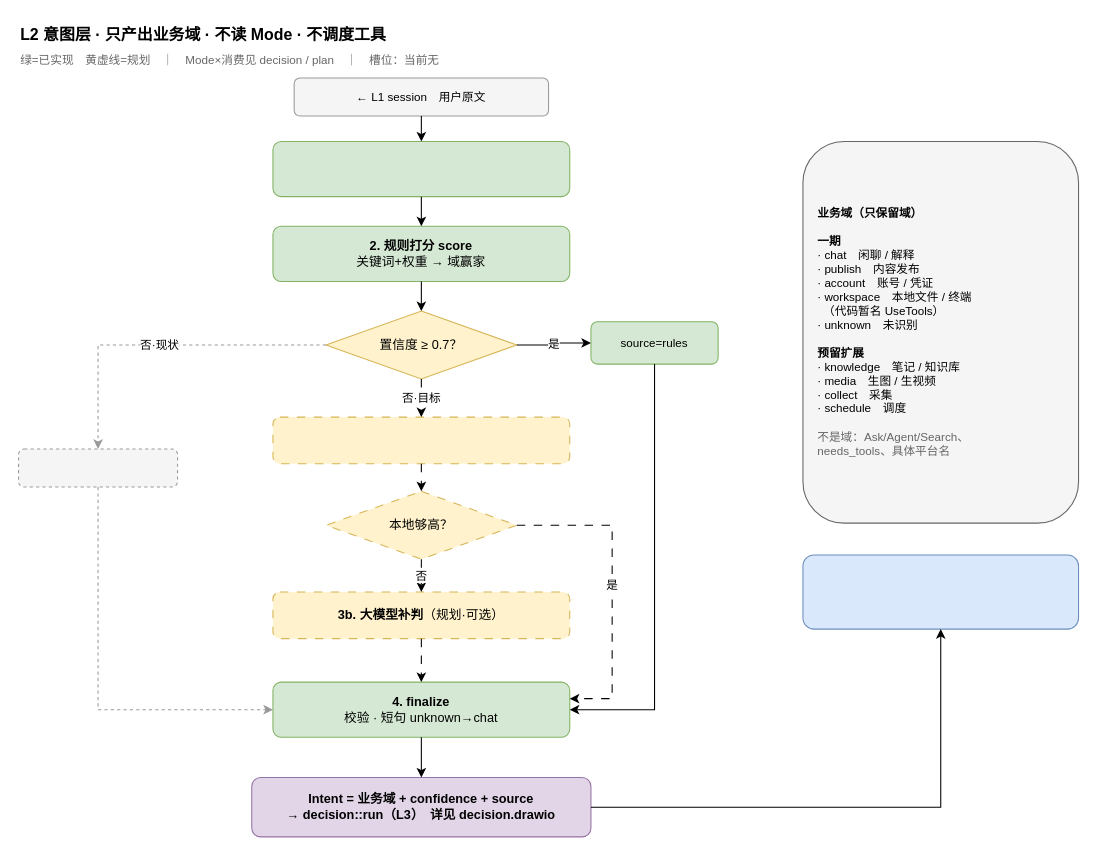
Some shapes in this 1097 by 855 pixel diagram are drawn without their labels. The shapes that lost their labels are listed below. From the top down, each one's centre as x and y in pixels, then its label:
At point 421,168: "1. normalize trim / 小写 / 字数".
At point 421,440: "3a. 本地小模型 （规划）".
At point 97,467: "现状：低置信→finalize".
At point 940,591: "出口规则 消费在 L3 decision / L4 plan 本层不组装 tools、不调 L4b".
